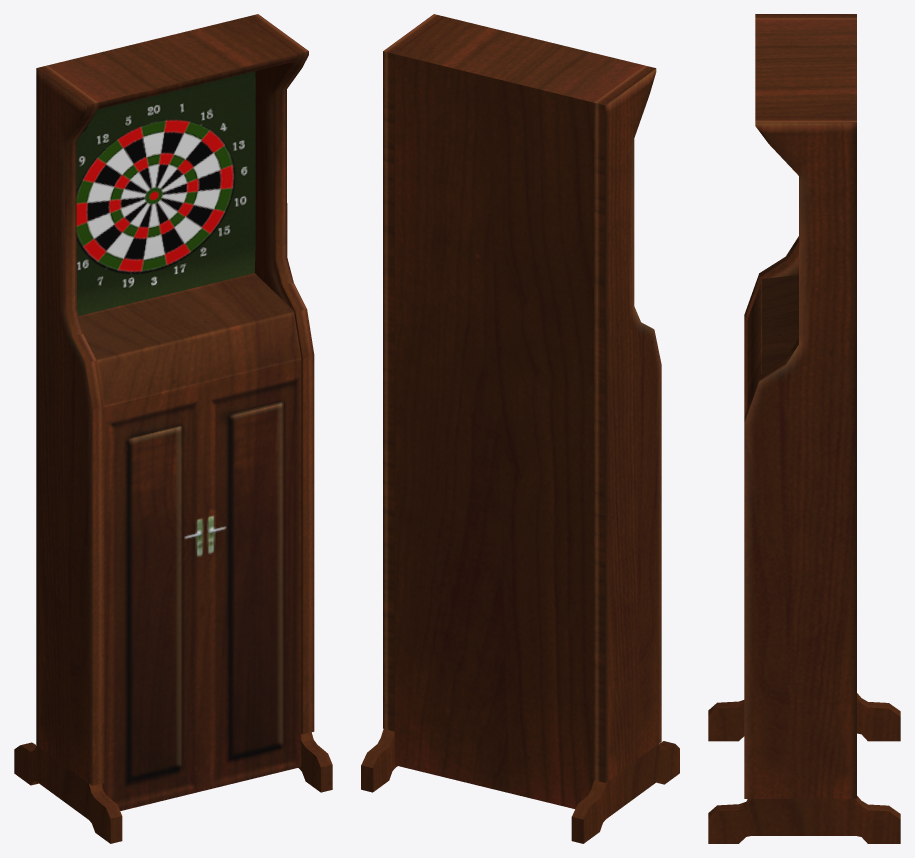
The model's file is darts-1.FBX.
3 renders of one model, left to right at view 1: azimuth 30°, elevation 25°; view 2: azimuth 150°, elevation 25°; view 3: azimuth 270°, elevation 25°, orthographic.
Parts seen in each view (by area): view 1: darts_LOD0; view 2: darts_LOD0; view 3: darts_LOD0.
Part boxes in pixels (box(x1,y1,x2,y2)): darts_LOD0: box(14, 14, 332, 843); darts_LOD0: box(361, 14, 679, 843); darts_LOD0: box(708, 14, 900, 843).
Bounding box in the file's own units: 23.87 × 74.11 × 17.91.
